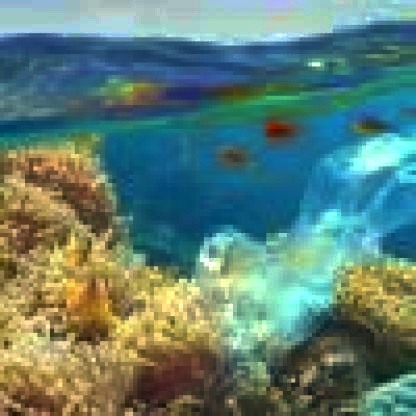pbag: (191, 129, 416, 383)
